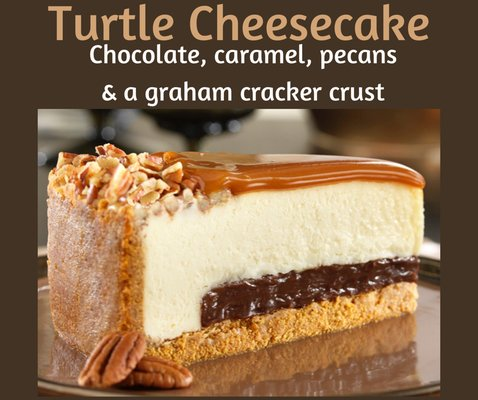sushi: (47, 146, 431, 391)
